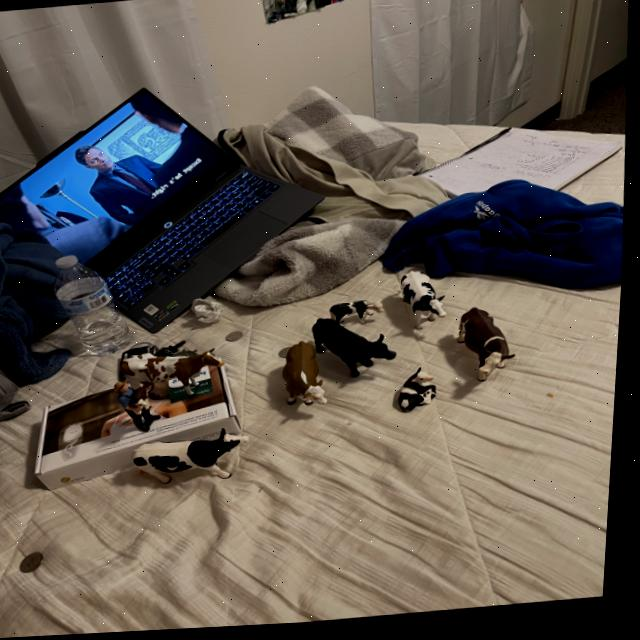cow: (306, 318, 405, 391), (452, 306, 523, 389), (138, 432, 253, 482), (123, 348, 229, 398), (396, 267, 456, 338), (281, 341, 332, 414), (395, 370, 449, 426), (333, 303, 387, 330), (130, 385, 162, 421)
person: (116, 379, 156, 438)
